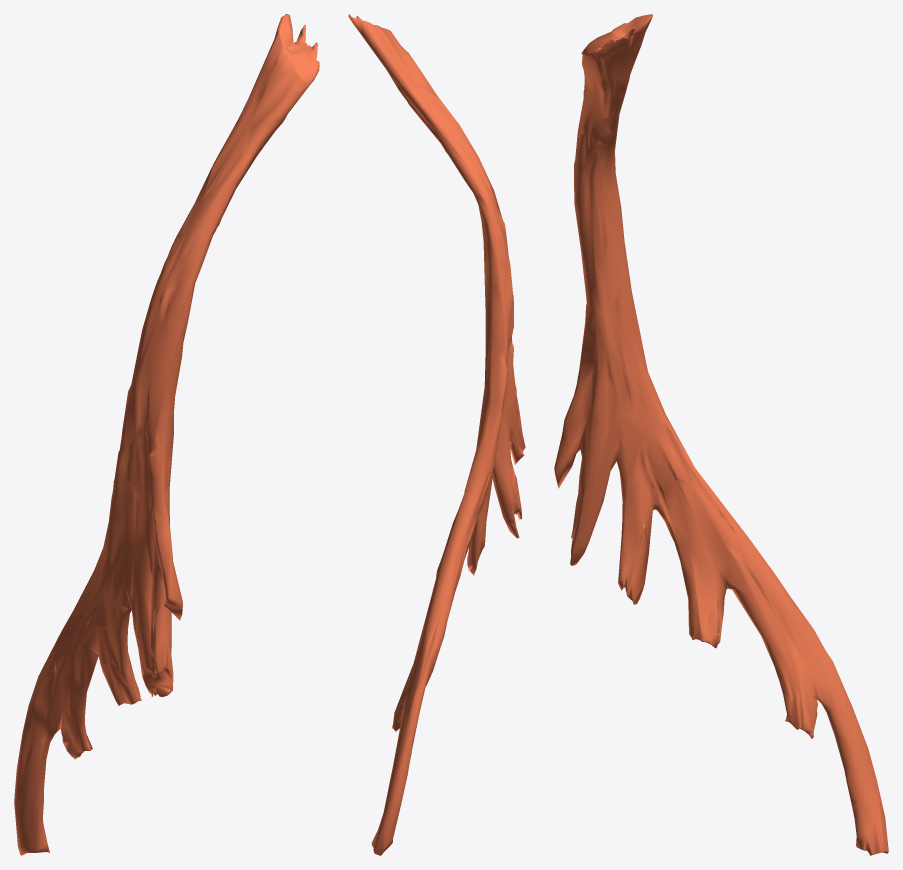
File: Longissimus_capitis.l_Generated_Mesh_From_X3D.375.glb
3 renders of one model, left to right at view 1: azimuth 30°, elevation 25°; view 2: azimuth 150°, elevation 25°; view 3: azimuth 270°, elevation 25°, orthographic. The views are drawn at different scales.
Visible parts, largest first — view 1: Longissimus_capitis.l_Generated_Mesh_From_X3D.375; view 2: Longissimus_capitis.l_Generated_Mesh_From_X3D.375; view 3: Longissimus_capitis.l_Generated_Mesh_From_X3D.375.
Part boxes in pixels (bbox=[...]): Longissimus_capitis.l_Generated_Mesh_From_X3D.375: bbox=[14, 14, 319, 855]; Longissimus_capitis.l_Generated_Mesh_From_X3D.375: bbox=[348, 14, 525, 855]; Longissimus_capitis.l_Generated_Mesh_From_X3D.375: bbox=[554, 14, 888, 855].
Bounding box in the file's own units: 0.0353 × 0.1573 × 0.0523.
